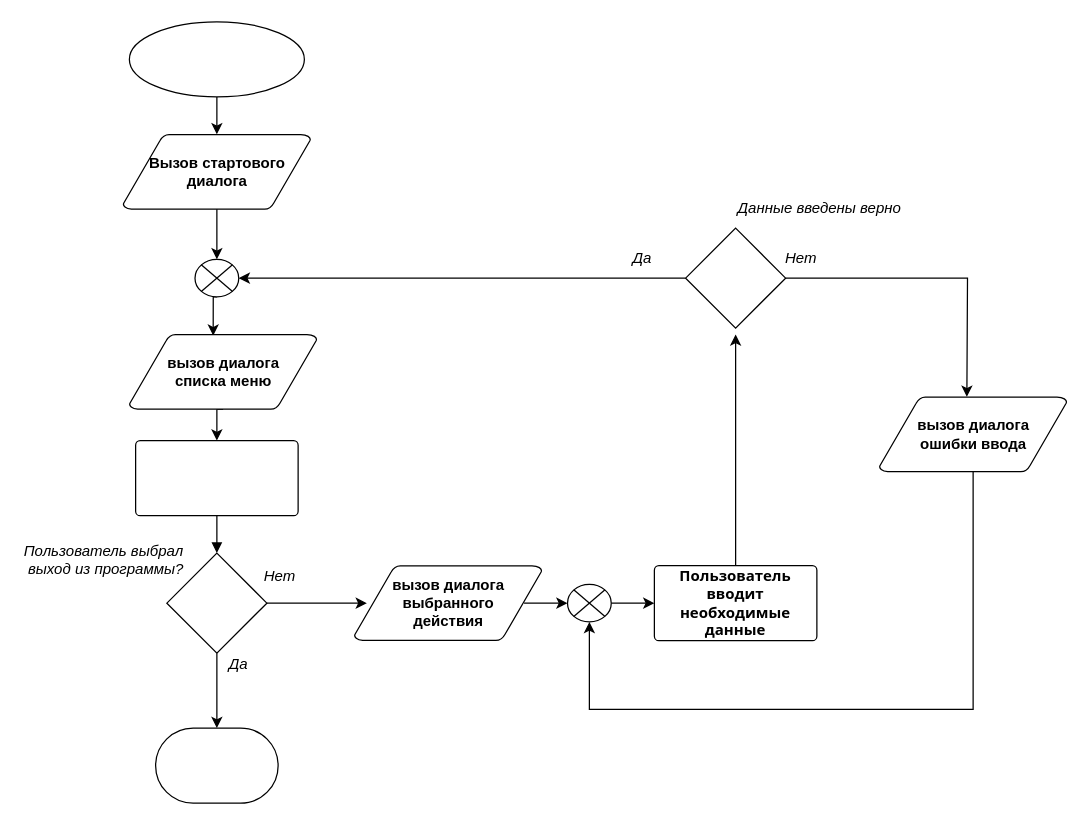
Image size: 1089x825. Some labels were removed from this diagram. The centre of each missing label's shape, as x and y in pixels:
Конец: (216,765)
Начало: (216,59)
Пользователь выбирает действие в меню: (216,477)
